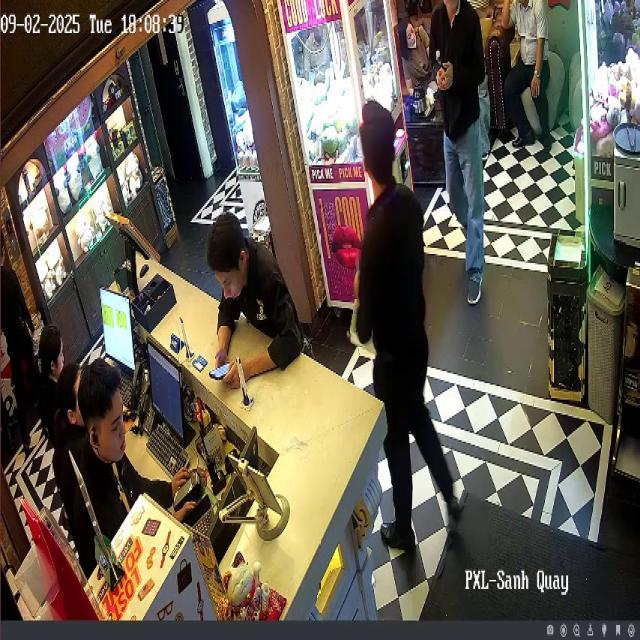khach: (423, 0, 495, 306), (498, 0, 556, 158), (398, 14, 446, 123)
nhan vien: (356, 92, 465, 567), (200, 207, 322, 399), (80, 360, 156, 543), (0, 202, 42, 468), (55, 357, 96, 531), (40, 323, 73, 483)
